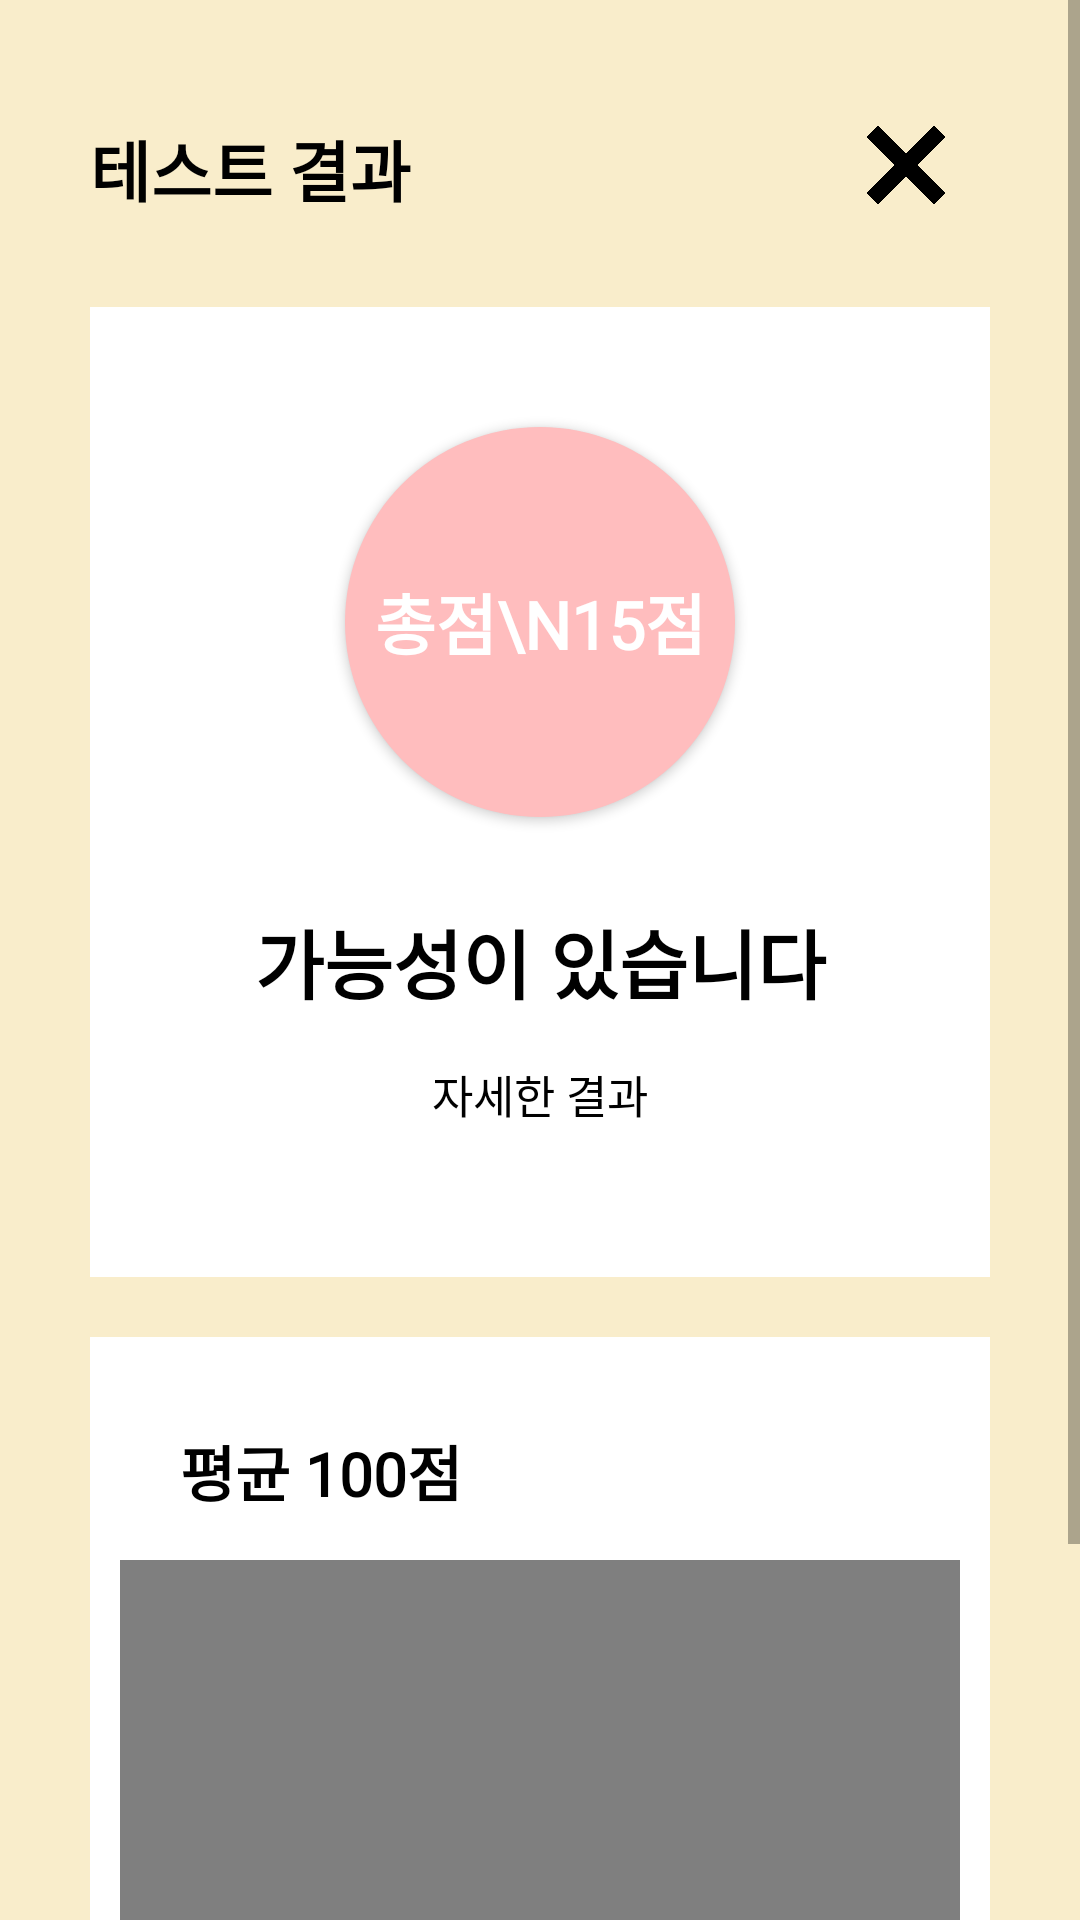

Screen size 1080 × 1920. Icon name, then its center in pixels as [x,y]:
cancel: [906,165]
